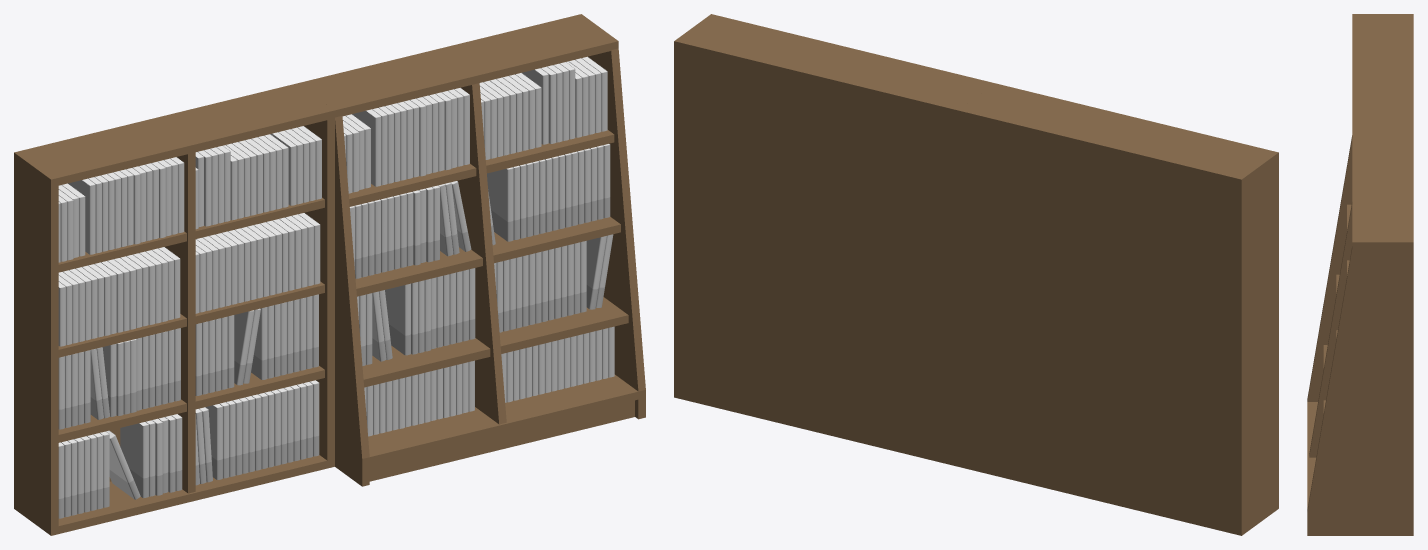
Rendered from 746_bookshelf_filled.glb.
3 renders of one model, left to right at view 1: azimuth 30°, elevation 25°; view 2: azimuth 150°, elevation 25°; view 3: azimuth 270°, elevation 25°, orthographic. The views are drawn at different scales.
Parts seen in each view (by area): view 1: 1, 2; view 2: 1, 2; view 3: 2, 1.
Boxes of the visible parts, x1=… form: 1: x1=14, y1=83, x2=334, y2=535; 2: x1=298, y1=14, x2=645, y2=486; 1: x1=958, y1=83, x2=1278, y2=535; 2: x1=674, y1=14, x2=994, y2=466; 2: x1=1307, y1=128, x2=1413, y2=535; 1: x1=1352, y1=14, x2=1413, y2=127.
Size of the model in its own units: 1.5 by 0.9 by 0.295.
